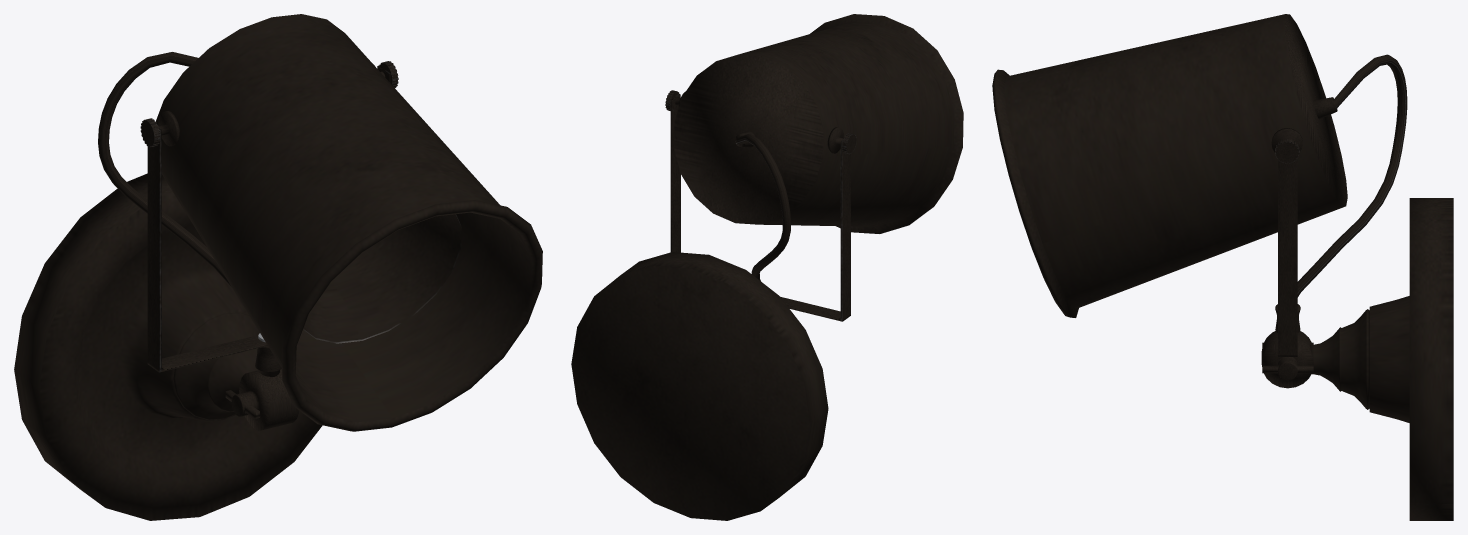
File: light.fbx
3 renders of one model, left to right at view 1: azimuth 30°, elevation 25°; view 2: azimuth 150°, elevation 25°; view 3: azimuth 270°, elevation 25°, orthographic. The views are drawn at different scales.
Visible parts, largest first — view 1: pCylinder15; view 2: pCylinder15; view 3: pCylinder15.
Part boxes in pixels (<box>): pCylinder15: <box>14,14,542,520</box>; pCylinder15: <box>571,14,963,520</box>; pCylinder15: <box>992,14,1453,520</box>.
Size of the model in its own units: 270 by 443 by 383.
